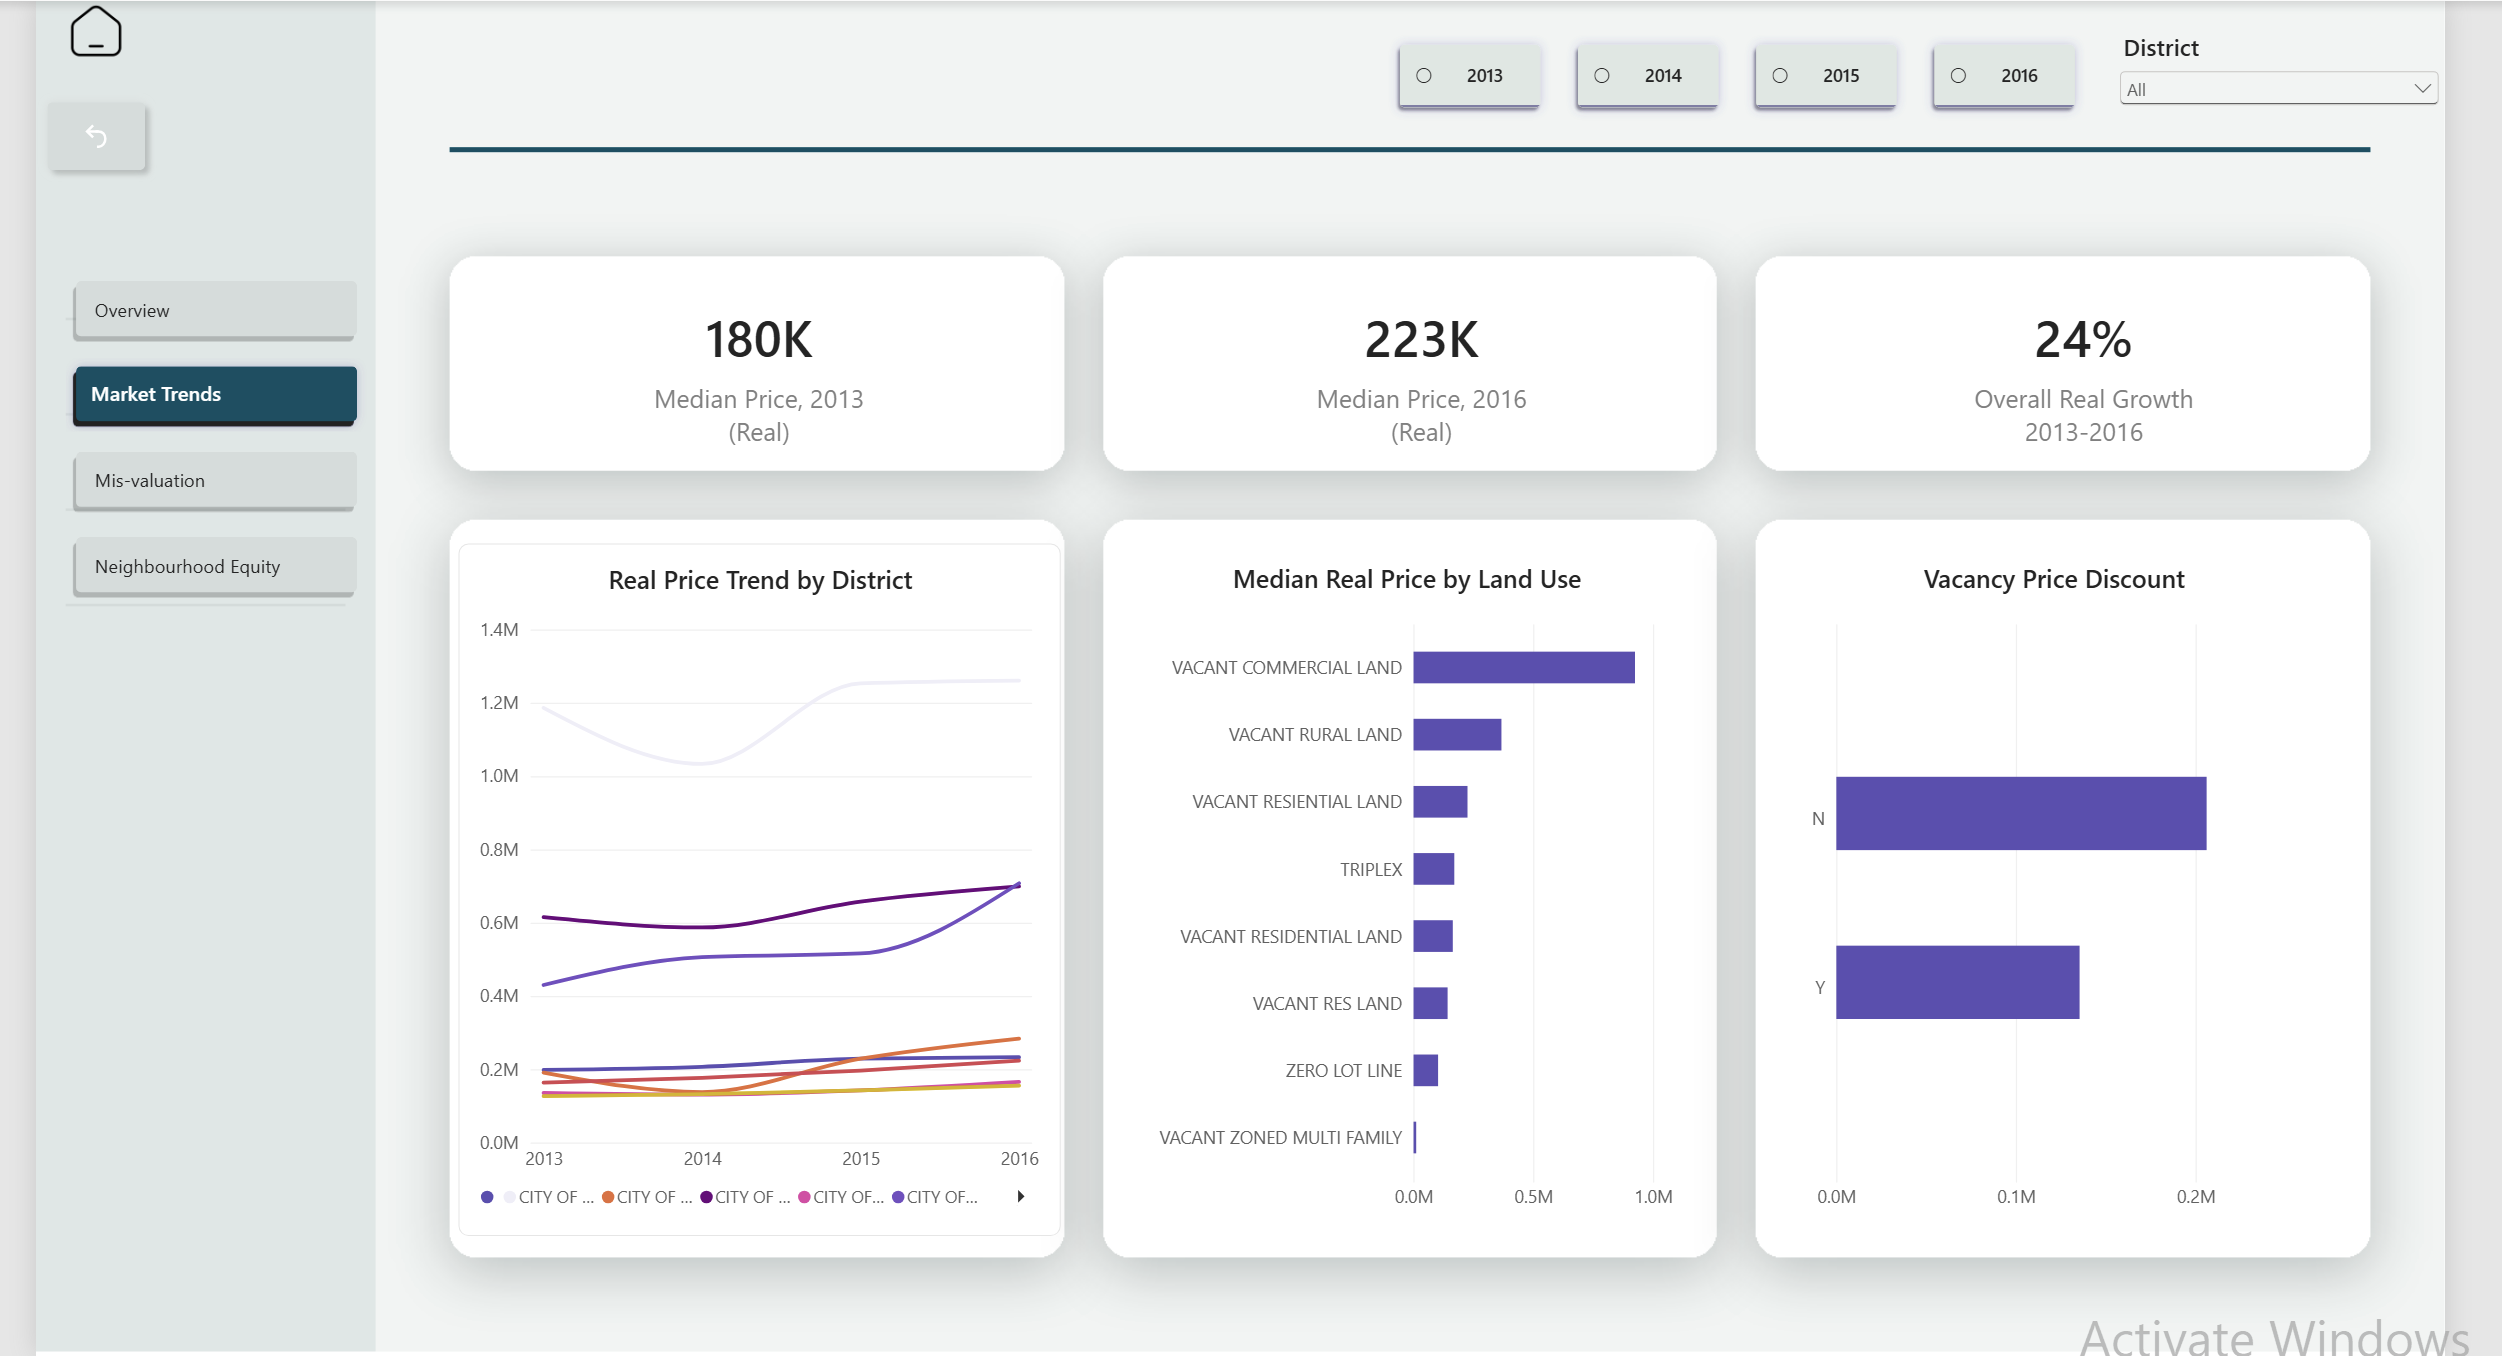

The page's visual inventory and layout, read from the dashboard file:
{"tool":"powerbi","page":{"name":"Market Trends","canvas":[1920,1080],"ordinal":1},"visuals":[{"type":"image","title":"Logo","box":[24,0,48,48],"z":0},{"type":"cardVisual","fields":{"Data":["overview_trends.Overall Real Growth %"]},"box":[1512,216,240,168],"z":1000},{"type":"cardVisual","fields":{"Data":["Median(overview_trends.sale_price_real)"]},"box":[984,216,240,168],"z":2000},{"type":"cardVisual","fields":{"Data":["Median(overview_trends.sale_price_real)"]},"box":[456,216,240,168],"z":3000},{"type":"lineChart","title":"Real Price Trend by District","fields":{"Category":["overview_trends.sale_year"],"Series":["overview_trends.tax_district"],"Y":["Median(overview_trends.sale_price_real)"]},"box":[336,432,480,552],"z":4000},{"type":"barChart","title":"Median Real Price by Land Use","fields":{"Category":["overview_trends.land_use"],"Y":["Median(overview_trends.sale_price_real)"]},"box":[864,432,456,552],"z":5000},{"type":"clusteredBarChart","title":"Vacancy Price Discount","fields":{"Category":["overview_trends.sold_as_vacant"],"Y":["Median(overview_trends.sale_price_real)"]},"box":[1392,432,432,552],"z":6000},{"type":"slicer","fields":{"Values":["overview_trends.tax_district"]},"box":[1656,24,264,96],"z":7000},{"type":"pageNavigator","title":"Menu Buttons","box":[24,216,240,264],"z":9000},{"type":"advancedSlicerVisual","fields":{"Values":["overview_trends.sale_year"]},"box":[1056,24,600,72],"z":9001},{"type":"actionButton","box":[0,72,96,72],"z":9002}]}

Visuals, with their boxes on the page's 1920x1080 design canvas (x1, y1, x2, y2). These are canvas units, not pixel positions in the 2502x1356 screenshot, which may show the page scaled, cropped or inside an application window:
"Logo" image: <bbox>24, 0, 72, 48</bbox>
cardVisual - overview_trends.Overall Real Growth %: <bbox>1512, 216, 1752, 384</bbox>
cardVisual - Median(overview_trends.sale_price_real): <bbox>984, 216, 1224, 384</bbox>
cardVisual - Median(overview_trends.sale_price_real): <bbox>456, 216, 696, 384</bbox>
"Real Price Trend by District" lineChart: <bbox>336, 432, 816, 984</bbox>
"Median Real Price by Land Use" barChart: <bbox>864, 432, 1320, 984</bbox>
"Vacancy Price Discount" clusteredBarChart: <bbox>1392, 432, 1824, 984</bbox>
slicer - overview_trends.tax_district: <bbox>1656, 24, 1920, 120</bbox>
"Menu Buttons" pageNavigator: <bbox>24, 216, 264, 480</bbox>
advancedSlicerVisual - overview_trends.sale_year: <bbox>1056, 24, 1656, 96</bbox>
actionButton: <bbox>0, 72, 96, 144</bbox>
